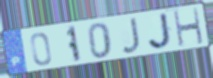0: (87, 21, 114, 60), (29, 31, 54, 67)
1: (65, 24, 83, 64)
H: (171, 6, 205, 49)
J: (147, 11, 175, 51), (120, 16, 142, 55)
